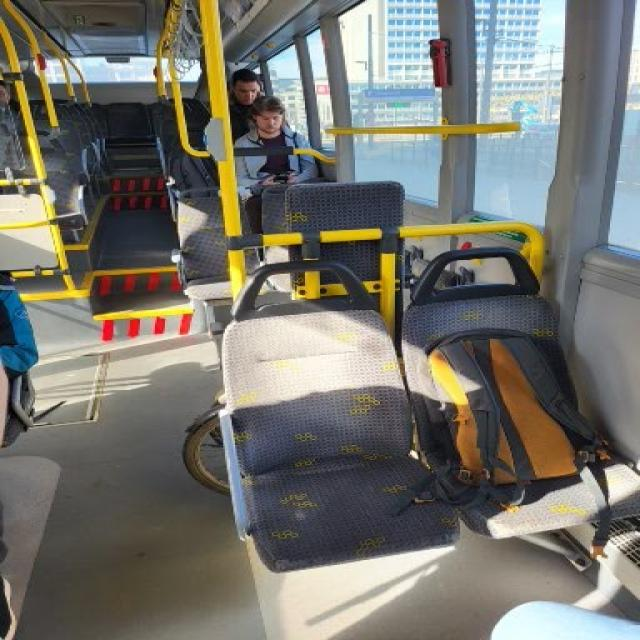empty-seat-frontal: (219, 257, 458, 575), (106, 100, 152, 152)
